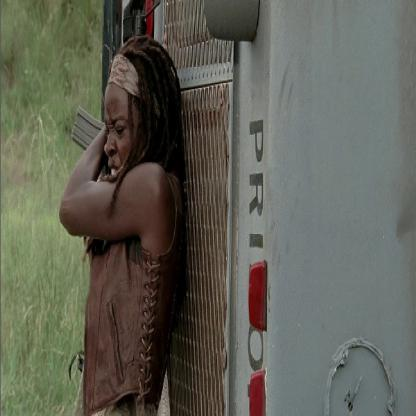Gun: (69, 8, 150, 158)
